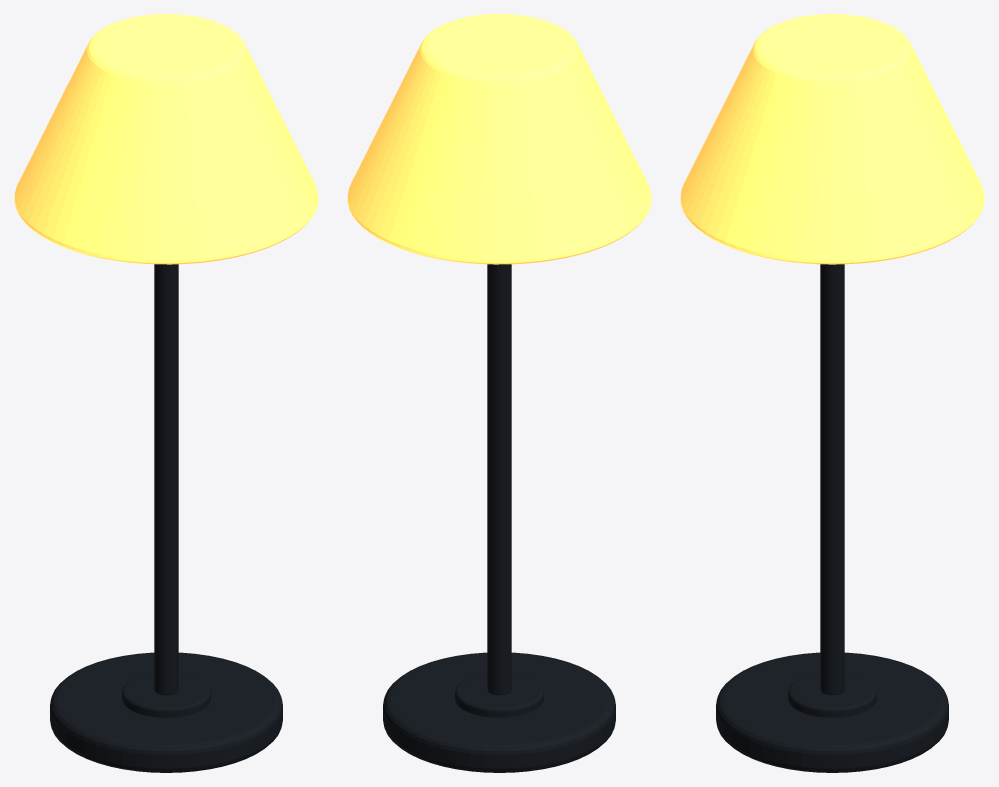
File: TallGlowFloorLamp.glb
3 views of the same model, side by side, from view 1: azimuth 30°, elevation 25°; view 2: azimuth 150°, elevation 25°; view 3: azimuth 270°, elevation 25° (orthographic).
Parts seen in each view (by area): view 1: GlowHousing, Base, Stem, BaseInset; view 2: GlowHousing, Base, Stem, BaseInset; view 3: GlowHousing, Base, Stem, BaseInset.
Boxes of the visible parts, x1,y1,x2,y2 form: GlowHousing: (14, 14, 318, 264); Base: (50, 652, 282, 772); Stem: (154, 264, 178, 695); BaseInset: (122, 673, 210, 717); GlowHousing: (347, 14, 651, 264); Base: (383, 652, 615, 772); Stem: (487, 264, 511, 695); BaseInset: (455, 673, 543, 717); GlowHousing: (680, 14, 984, 264); Base: (716, 652, 948, 772); Stem: (820, 264, 844, 695); BaseInset: (788, 673, 876, 717).
Size of the model in its own units: 0.8092 by 2 by 0.8092.
